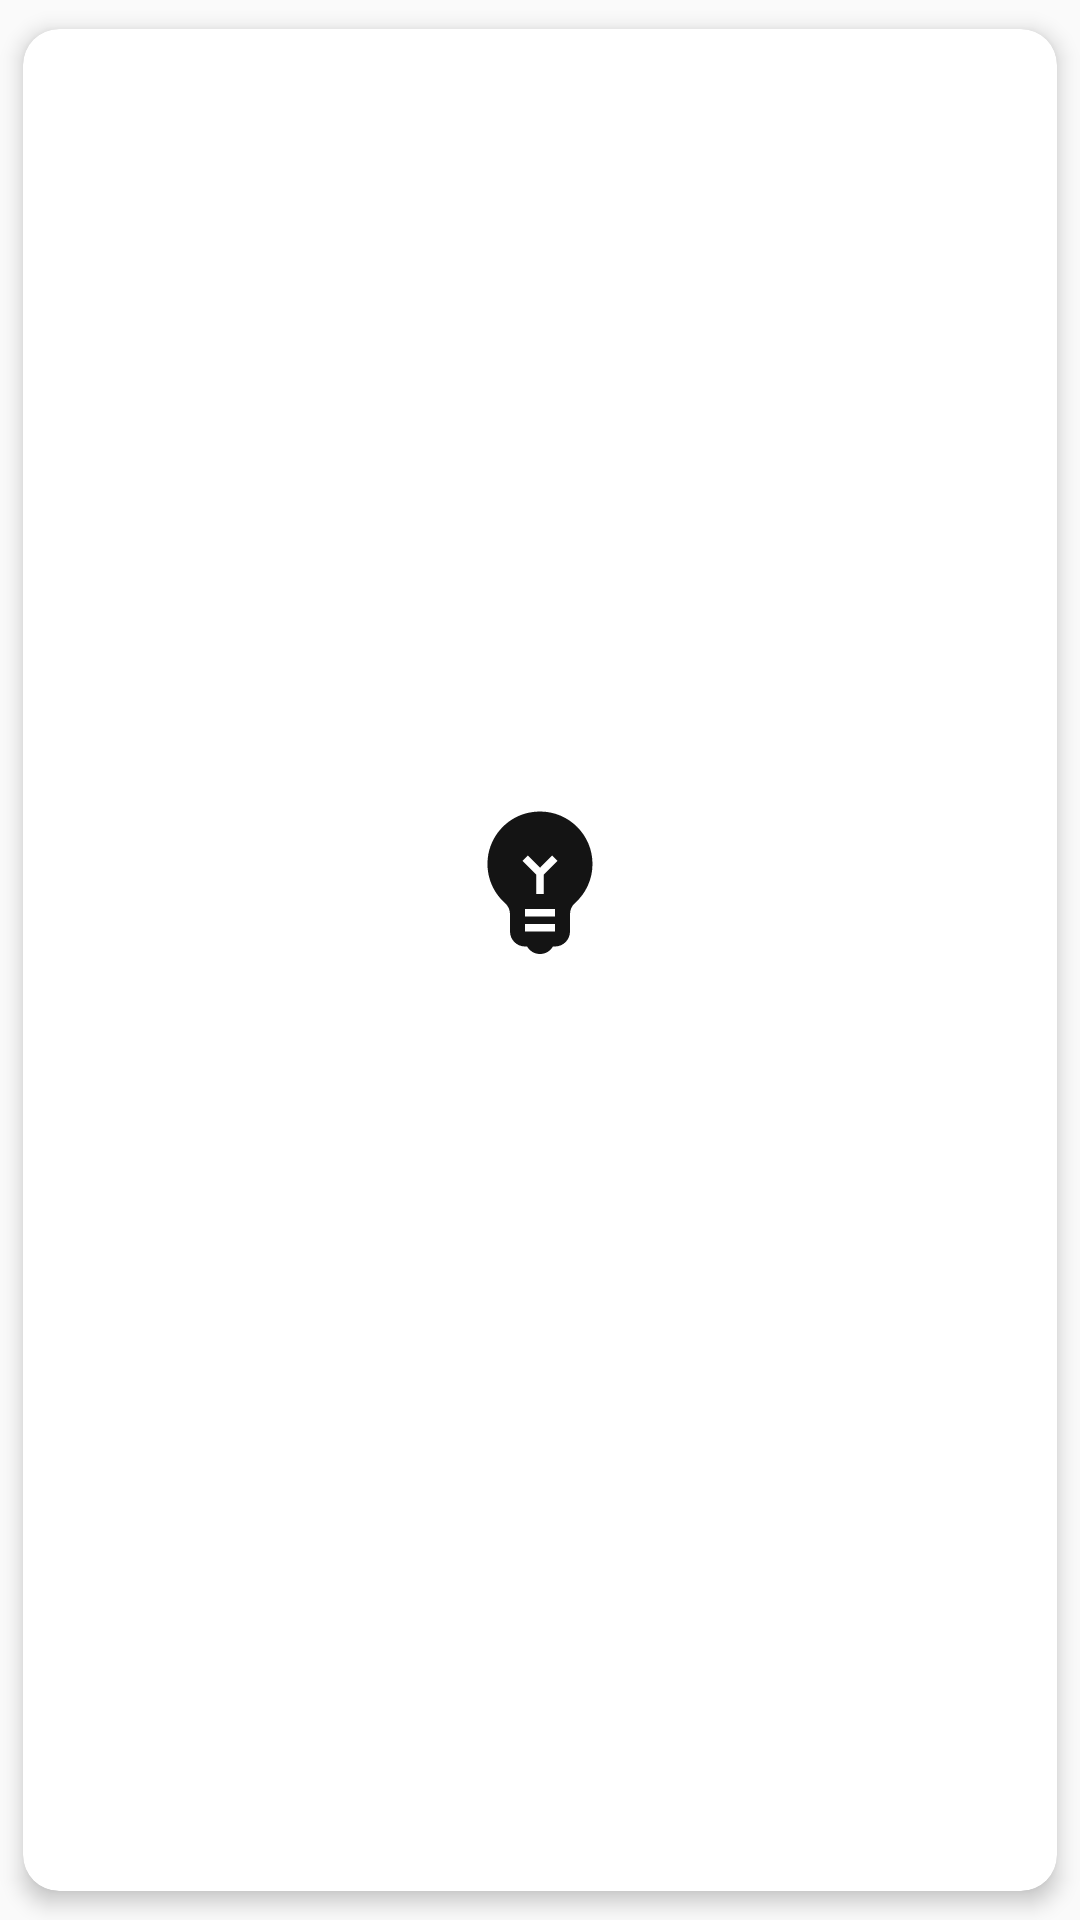

Named icons in this screenshot (1080w x 1920h) and their bounding boxes, (x1, y1, x2, y2):
emoji objects: (487, 811, 593, 954)
